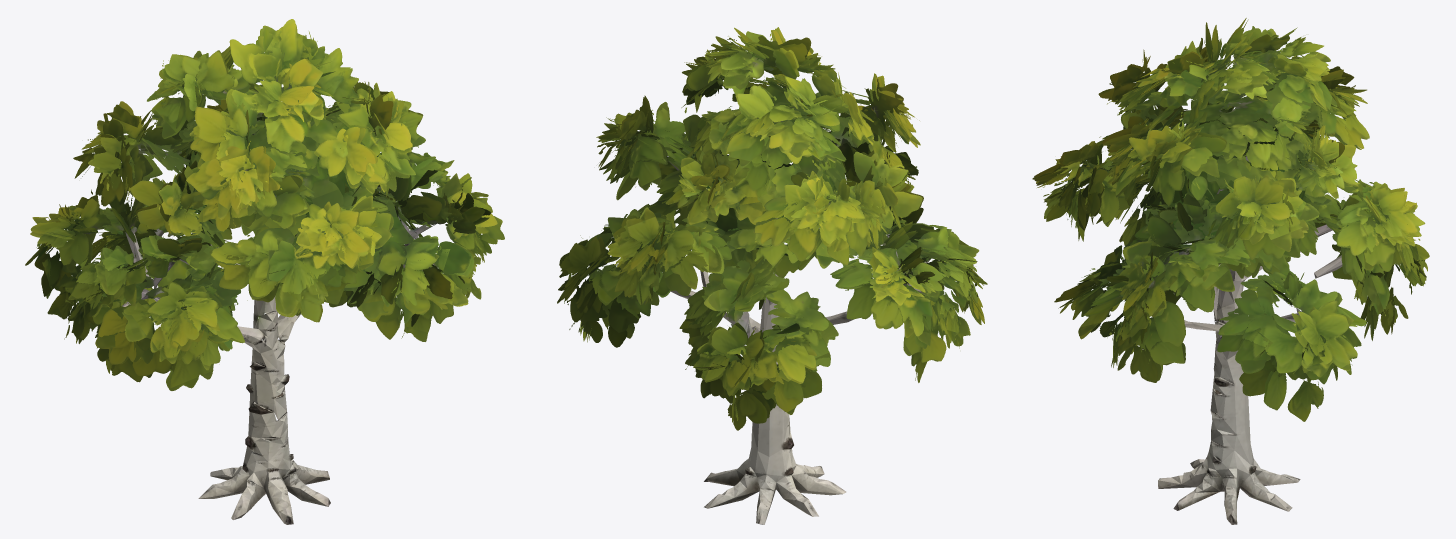
Rendered from agac_hus_lod1.glb.
The picture shows the model from 3 angles, left to right: view 1: azimuth 30°, elevation 25°; view 2: azimuth 150°, elevation 25°; view 3: azimuth 270°, elevation 25°; orthographic projection.
Visible parts, largest first — view 1: agac_hus_lod1; view 2: agac_hus_lod1; view 3: agac_hus_lod1.
Part boxes in pixels (box(x1,y1,x2,y2)): agac_hus_lod1: box(25, 19, 504, 524); agac_hus_lod1: box(557, 27, 987, 524); agac_hus_lod1: box(1032, 18, 1429, 524).
Bounding box in the file's own units: 4.76 × 5.23 × 4.18.
2 materials, 2 textured.
